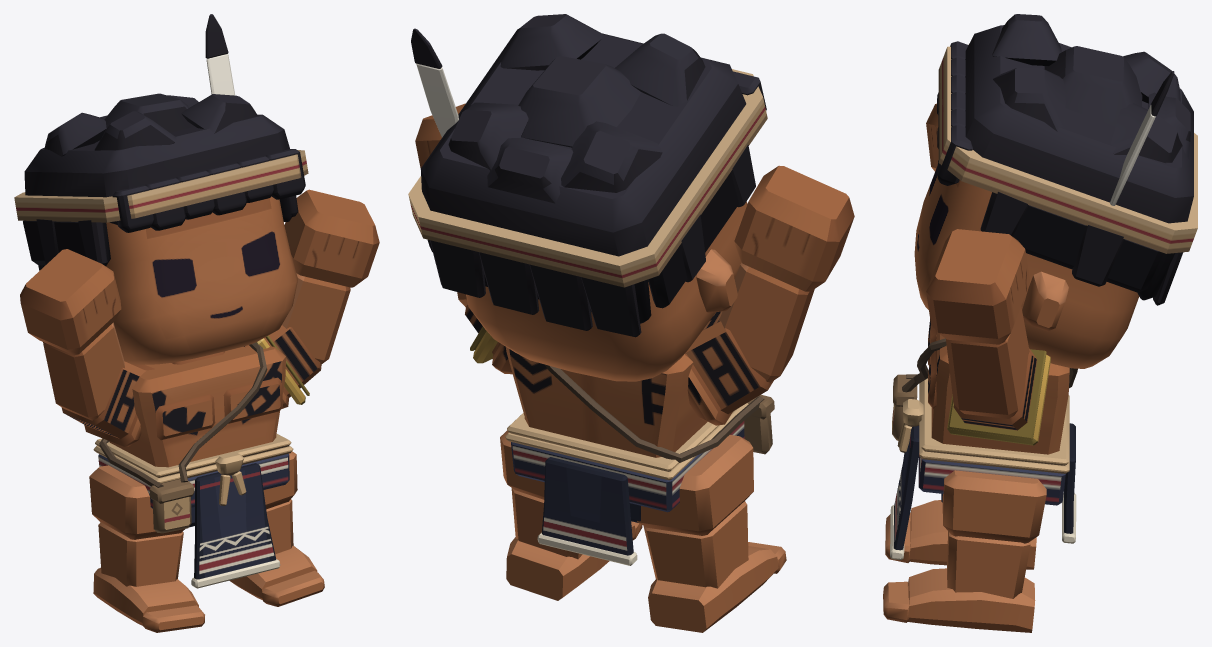
Rendered from audience_v2_young_man_cheer.glb.
3 renders of one model, left to right at view 1: azimuth 30°, elevation 25°; view 2: azimuth 150°, elevation 25°; view 3: azimuth 270°, elevation 25°, orthographic. The views are drawn at different scales.
Visible parts, largest first — view 1: audience_v2_young_man_cheer; view 2: audience_v2_young_man_cheer; view 3: audience_v2_young_man_cheer.
Boxes of the visible parts, x1,y1,x2,y2 form: audience_v2_young_man_cheer: (14,14,379,632); audience_v2_young_man_cheer: (408,14,854,632); audience_v2_young_man_cheer: (883,14,1197,632).
Bounding box in the file's own units: 0.559 × 0.7706 × 0.3822.
Materials: 1 (1 with a texture image).
